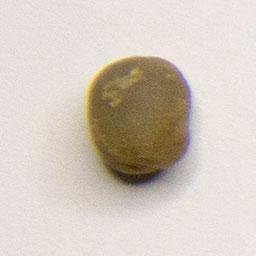peaberry: (84, 53, 197, 181)
